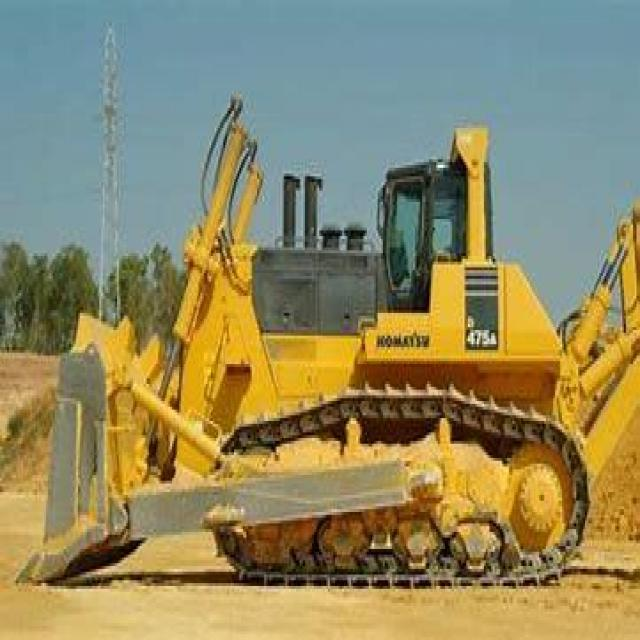Bulldozer: (27, 91, 638, 623)
